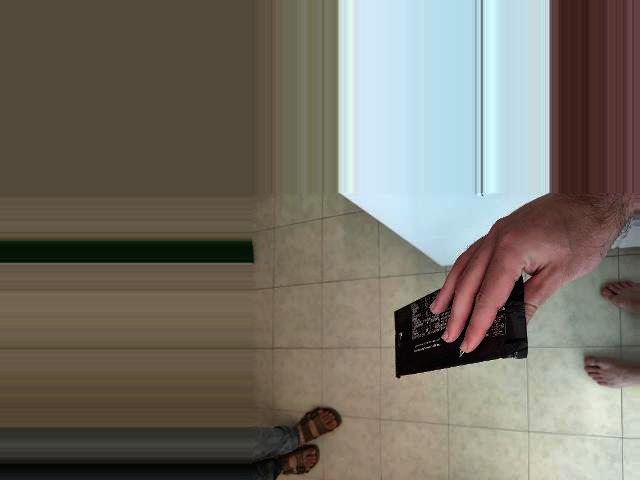chocolate: (347, 328, 474, 474)
